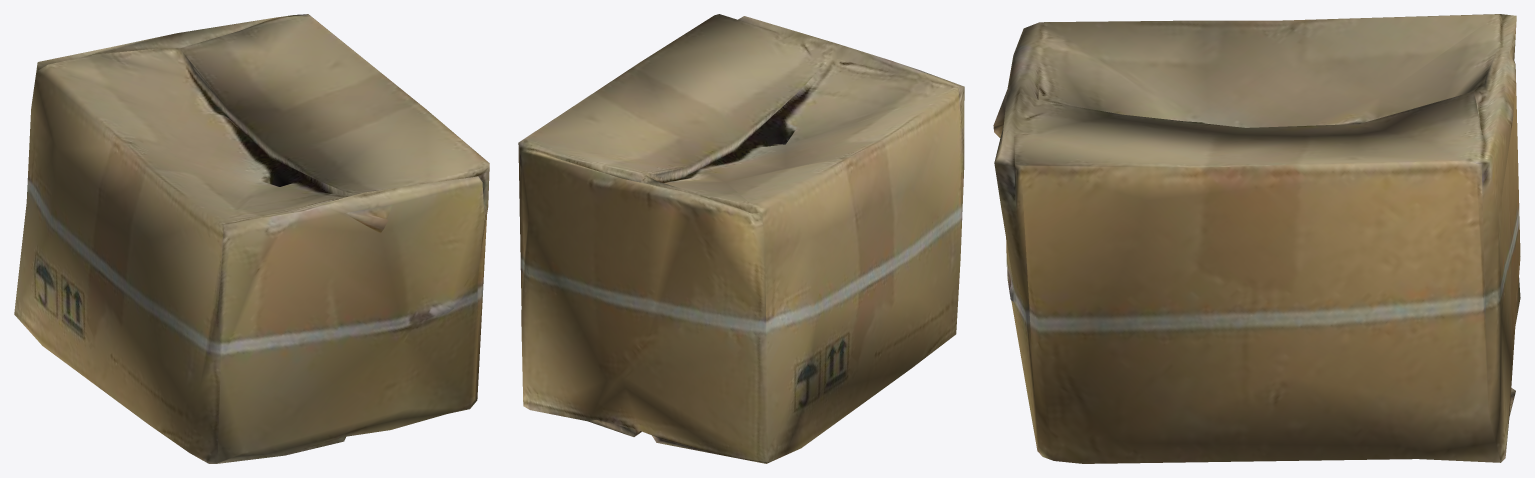
3 views of the same model, side by side, from view 1: azimuth 30°, elevation 25°; view 2: azimuth 150°, elevation 25°; view 3: azimuth 270°, elevation 25° (orthographic). The views are drawn at different scales.
Visible parts, largest first — view 1: cardboard_box_01; view 2: cardboard_box_01; view 3: cardboard_box_01.
Boxes of the visible parts, x1=… form: cardboard_box_01: x1=14, y1=14, x2=489, y2=463; cardboard_box_01: x1=518, y1=14, x2=964, y2=463; cardboard_box_01: x1=993, y1=14, x2=1520, y2=463.
Bounding box in the file's own units: 0.3854 × 0.3396 × 0.5159.
Materials: 1 (1 with a texture image).
